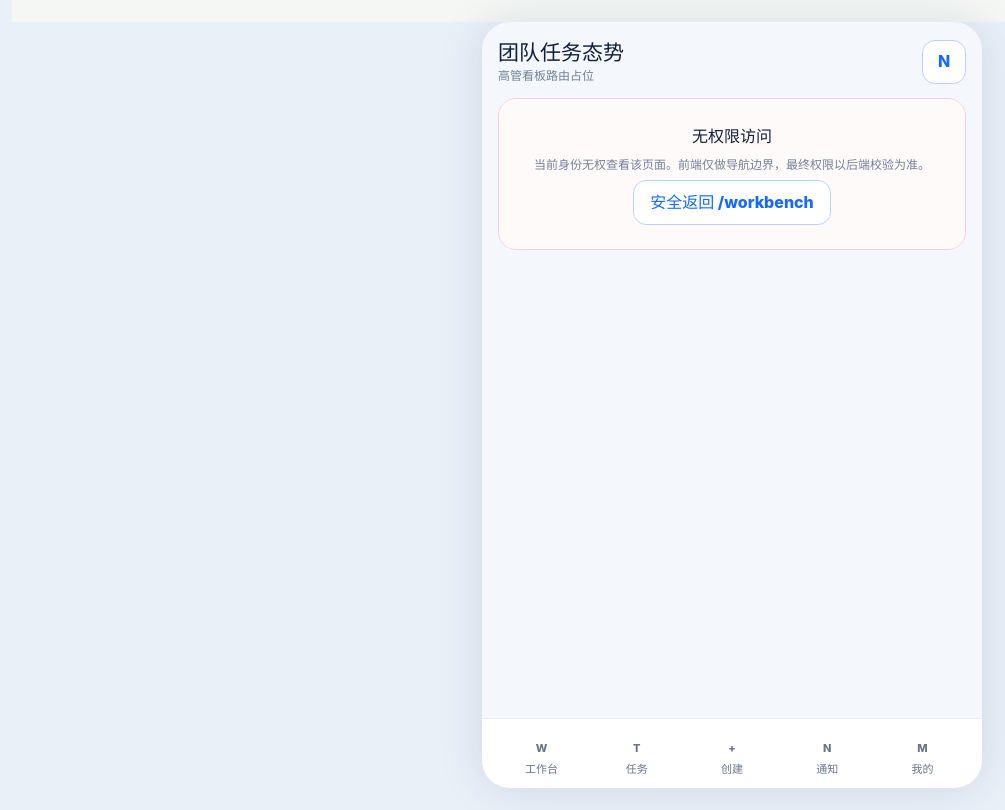
Test: DEV-02 target router › falls back safely for unsafe return source state
This screenshot has width=1005, height=810.
Click the button "安全返回 /workbench": point(732, 203) [633, 180, 831, 225]
(page scrolled)
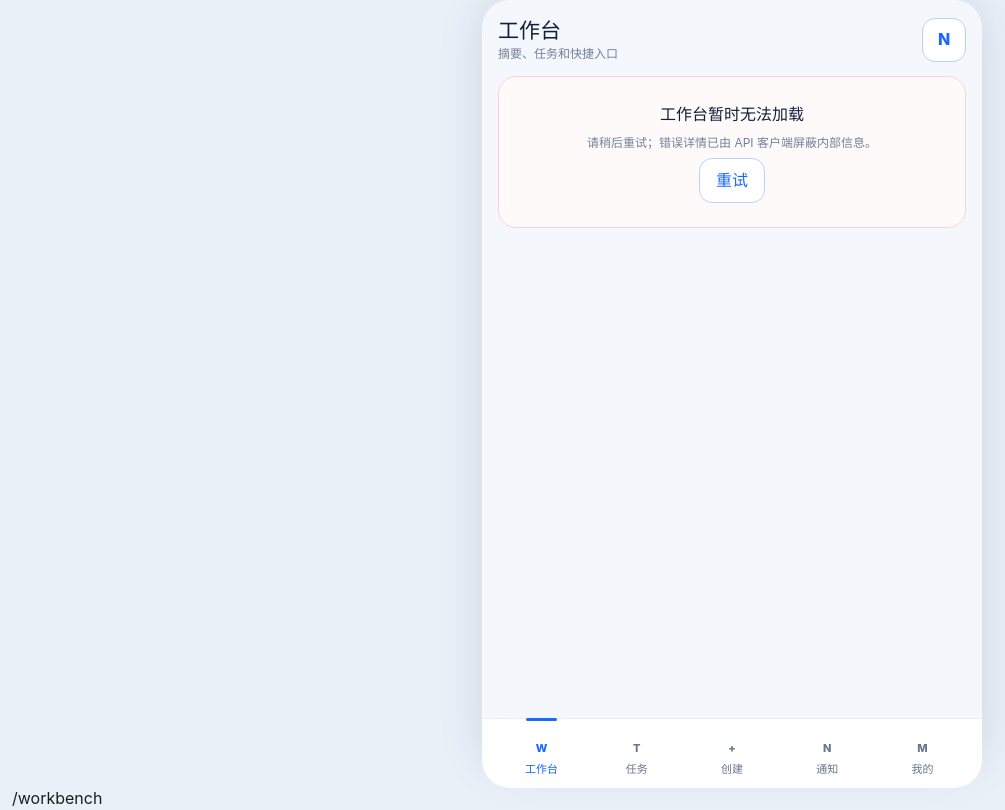
Expected: the text with test id "location" reads "/workbench", [12, 788, 102, 808]
